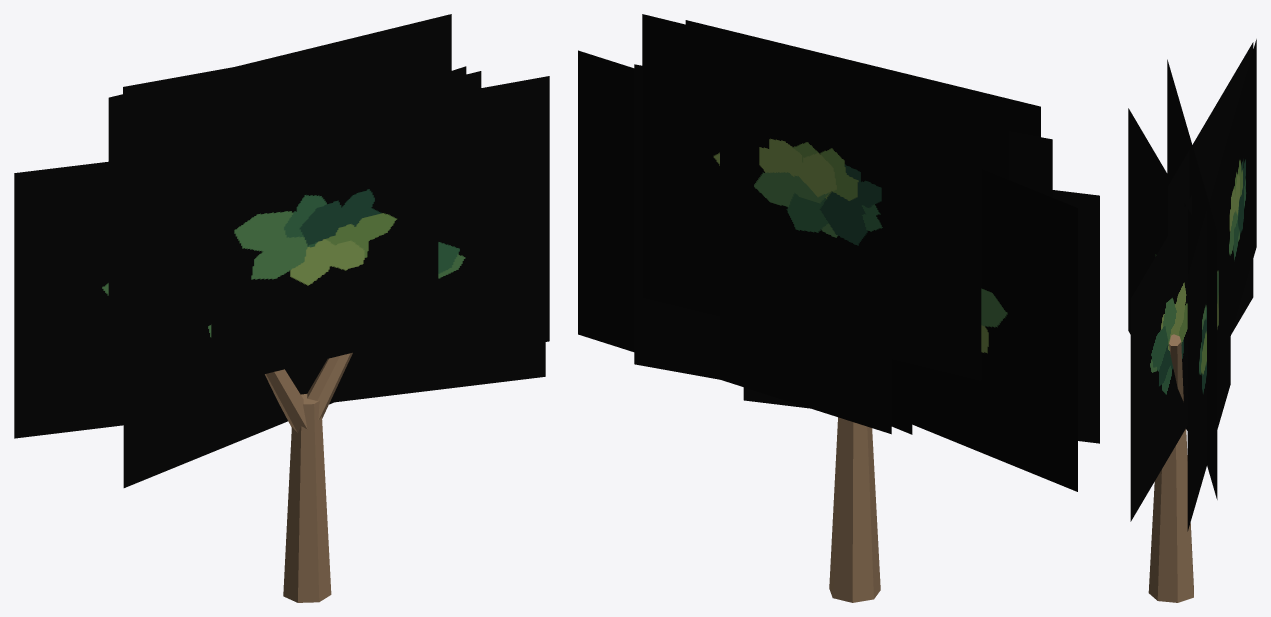
The model's file is TREE_NATIVE_ROUNDED_001_V4_LOD_GAMEPLAY.glb.
The picture shows the model from 3 angles, left to right: view 1: azimuth 30°, elevation 25°; view 2: azimuth 150°, elevation 25°; view 3: azimuth 270°, elevation 25°; orthographic projection. The views are drawn at different scales.
Parts seen in each view (by area): view 1: GG_NATIVE_V4_CLUSTER_07, GG_NATIVE_V4_CLUSTER_05, GG_NATIVE_V4_CLUSTER_00, GG_NATIVE_V4_CLUSTER_04, GG_NATIVE_V4_CLUSTER_02, GG_NATIVE_V4_LOCKED_CARCASS_00, GG_NATIVE_V4_CLUSTER_01, GG_NATIVE_V4_CLUSTER_06, GG_NATIVE_V4_CLUSTER_03, GG_NATIVE_V4_LOCKED_CARCASS_01, GG_NATIVE_V4_LOCKED_CARCASS_02; view 2: GG_NATIVE_V4_CLUSTER_06, GG_NATIVE_V4_CLUSTER_02, GG_NATIVE_V4_CLUSTER_00, GG_NATIVE_V4_CLUSTER_01, GG_NATIVE_V4_CLUSTER_03, GG_NATIVE_V4_LOCKED_CARCASS_00, GG_NATIVE_V4_CLUSTER_04, GG_NATIVE_V4_CLUSTER_07, GG_NATIVE_V4_CLUSTER_05; view 3: GG_NATIVE_V4_CLUSTER_05, GG_NATIVE_V4_CLUSTER_06, GG_NATIVE_V4_CLUSTER_01, GG_NATIVE_V4_CLUSTER_04, GG_NATIVE_V4_LOCKED_CARCASS_00, GG_NATIVE_V4_CLUSTER_03, GG_NATIVE_V4_CLUSTER_00, GG_NATIVE_V4_LOCKED_CARCASS_02.
Part boxes in pixels (left/top/right/bottom): GG_NATIVE_V4_CLUSTER_07: left=149, top=71, right=481, bottom=386; GG_NATIVE_V4_CLUSTER_05: left=330, top=145, right=545, bottom=402; GG_NATIVE_V4_CLUSTER_00: left=14, top=157, right=366, bottom=438; GG_NATIVE_V4_CLUSTER_04: left=123, top=221, right=333, bottom=487; GG_NATIVE_V4_CLUSTER_02: left=108, top=14, right=451, bottom=362; GG_NATIVE_V4_LOCKED_CARCASS_00: left=283, top=394, right=331, bottom=602; GG_NATIVE_V4_CLUSTER_01: left=481, top=76, right=549, bottom=341; GG_NATIVE_V4_CLUSTER_06: left=123, top=33, right=422, bottom=93; GG_NATIVE_V4_CLUSTER_03: left=127, top=66, right=466, bottom=254; GG_NATIVE_V4_LOCKED_CARCASS_01: left=265, top=369, right=307, bottom=432; GG_NATIVE_V4_LOCKED_CARCASS_02: left=307, top=352, right=352, bottom=420; GG_NATIVE_V4_CLUSTER_06: left=720, top=43, right=957, bottom=350; GG_NATIVE_V4_CLUSTER_02: left=642, top=14, right=1009, bottom=380; GG_NATIVE_V4_CLUSTER_00: left=912, top=169, right=1077, bottom=491; GG_NATIVE_V4_CLUSTER_01: left=578, top=50, right=891, bottom=434; GG_NATIVE_V4_CLUSTER_03: left=634, top=64, right=1052, bottom=379; GG_NATIVE_V4_LOCKED_CARCASS_00: left=829, top=417, right=880, bottom=602; GG_NATIVE_V4_CLUSTER_04: left=743, top=190, right=1099, bottom=443; GG_NATIVE_V4_CLUSTER_07: left=685, top=20, right=1040, bottom=137; GG_NATIVE_V4_CLUSTER_05: left=891, top=359, right=912, bottom=434; GG_NATIVE_V4_CLUSTER_05: left=1130, top=163, right=1211, bottom=521; GG_NATIVE_V4_CLUSTER_06: left=1218, top=39, right=1256, bottom=376; GG_NATIVE_V4_CLUSTER_01: left=1187, top=171, right=1230, bottom=531; GG_NATIVE_V4_CLUSTER_04: left=1128, top=108, right=1199, bottom=430; GG_NATIVE_V4_LOCKED_CARCASS_00: left=1148, top=429, right=1193, bottom=602; GG_NATIVE_V4_CLUSTER_03: left=1167, top=59, right=1217, bottom=499; GG_NATIVE_V4_CLUSTER_00: left=1168, top=42, right=1253, bottom=334; GG_NATIVE_V4_LOCKED_CARCASS_02: left=1169, top=334, right=1183, bottom=401.
Size of the model in its own units: 7.02 by 6.93 by 1.62.
Materials: 2 (1 with a texture image).
